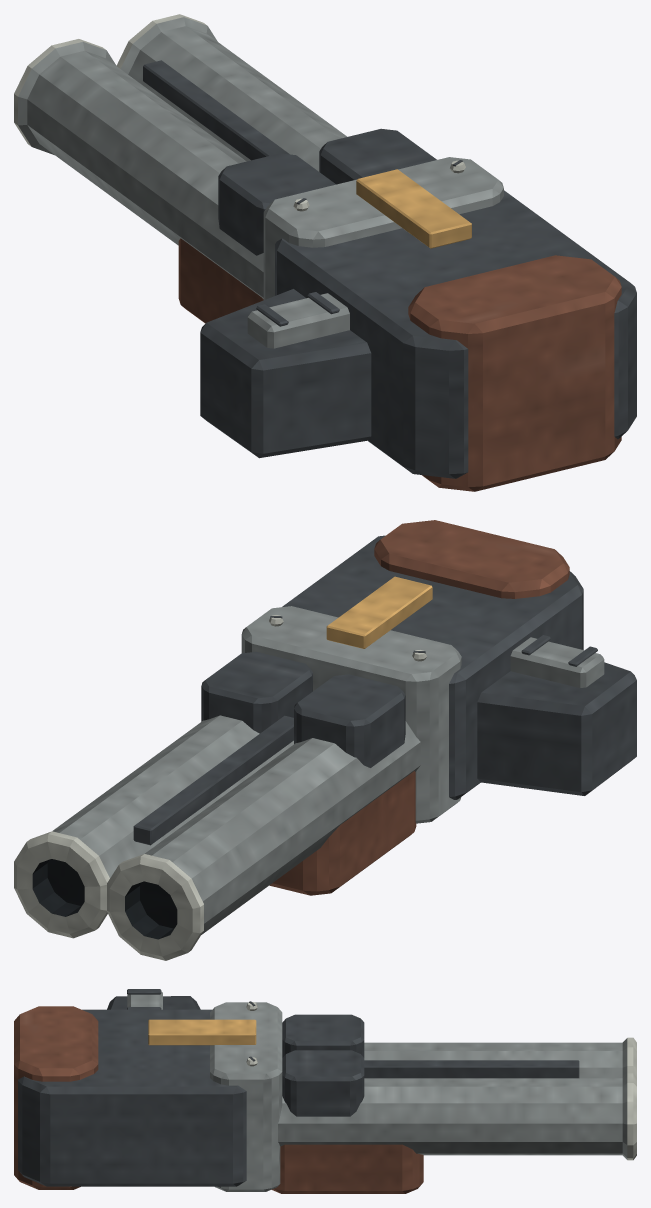
Rendered from ShotGun.glb.
3 views of the same model, one above another, from view 1: azimuth 30°, elevation 25°; view 2: azimuth 150°, elevation 25°; view 3: azimuth 270°, elevation 25° (orthographic). The views are drawn at different scales.
Parts seen in each view (by area): view 1: Rear grip block, Low break-action breech, Recessed barrel, Robot mounting shoe, Recessed barrel.001, Machined breech shoulders, Barrel saddle, Raised brass latch, Barrel joining rib, Barrel saddle.001, Walnut forend, Exposed rail adapter; view 2: Recessed barrel, Recessed barrel.001, Low break-action breech, Robot mounting shoe, Machined breech shoulders, Rear grip block, Barrel saddle, Walnut forend, Barrel saddle.001, Barrel joining rib, Raised brass latch, Exposed rail adapter; view 3: Low break-action breech, Recessed barrel.001, Machined breech shoulders, Walnut forend, Rear grip block, Recessed barrel, Barrel saddle.001, Barrel joining rib, Barrel saddle, Raised brass latch, Robot mounting shoe, Exposed rail adapter.
Part boxes in pixels (x1,y1,x2,y2): Rear grip block: (408, 255, 621, 491); Low break-action breech: (275, 190, 636, 478); Recessed barrel: (14, 39, 263, 298); Robot mounting shoe: (200, 289, 371, 458); Recessed barrel.001: (116, 14, 347, 171); Machined breech shoulders: (263, 157, 503, 299); Barrel saddle: (218, 153, 335, 255); Raised brass latch: (356, 169, 471, 248); Barrel joining rib: (143, 60, 289, 160); Barrel saddle.001: (319, 128, 436, 184); Walnut forend: (178, 238, 263, 323); Exposed rail adapter: (247, 293, 349, 348); Recessed barrel: (107, 721, 420, 960); Recessed barrel.001: (14, 715, 293, 938); Low break-action breech: (282, 535, 583, 799); Robot mounting shoe: (477, 662, 636, 795); Machined breech shoulders: (241, 606, 461, 823); Rear grip block: (374, 520, 569, 598); Barrel saddle: (294, 674, 405, 767); Walnut forend: (269, 771, 416, 895); Barrel saddle.001: (201, 651, 312, 733); Barrel joining rib: (133, 715, 293, 845); Raised brass latch: (326, 576, 432, 648); Exposed rail adapter: (510, 637, 604, 687); Low break-action breech: (18, 1009, 246, 1186); Recessed barrel.001: (278, 1073, 636, 1160); Machined breech shoulders: (210, 1002, 282, 1191); Walnut forend: (272, 1144, 423, 1193); Rear grip block: (14, 1006, 98, 1189); Recessed barrel: (364, 1037, 636, 1078); Barrel saddle.001: (282, 1050, 364, 1116); Barrel joining rib: (364, 1060, 579, 1078); Barrel saddle: (282, 1014, 364, 1057); Raised brass latch: (148, 1019, 256, 1045); Robot mounting shoe: (107, 996, 200, 1009); Exposed rail adapter: (127, 991, 162, 1009).
Size of the model in its own units: 0.2384 by 0.1275 by 0.5245.
1 material, 1 textured.
